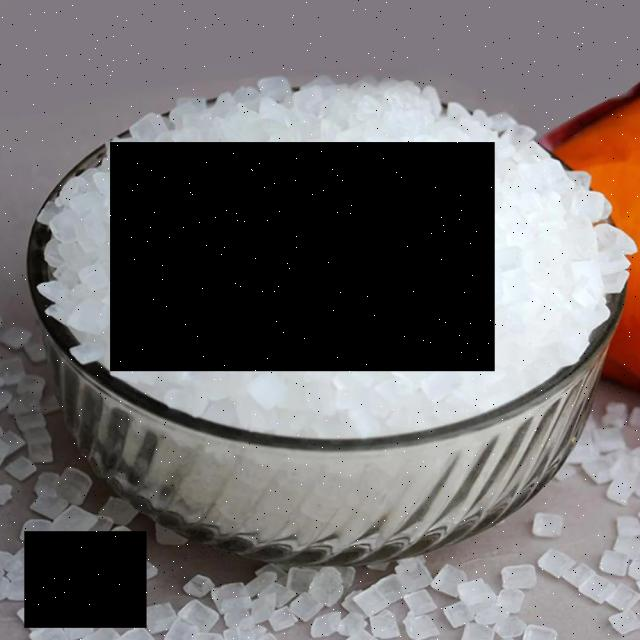Sugar: (110, 142, 495, 371), (25, 532, 146, 628)
